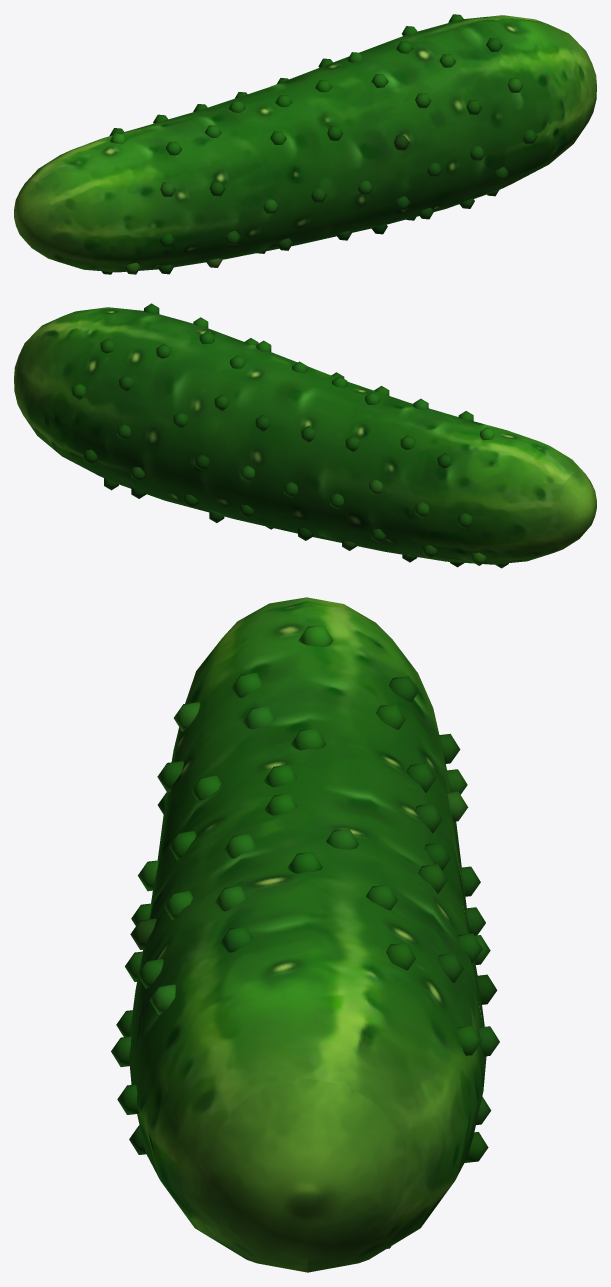
File: cucumber_pickle.fbx
3 renders of one model, top to bottom at view 1: azimuth 30°, elevation 25°; view 2: azimuth 150°, elevation 25°; view 3: azimuth 270°, elevation 25°, orthographic. The views are drawn at different scales.
Visible parts, largest first — view 1: Cucumber_Pickling_01; view 2: Cucumber_Pickling_01; view 3: Cucumber_Pickling_01.
Part boxes in pixels (x1,y1,x2,y2): Cucumber_Pickling_01: (14,14,596,274); Cucumber_Pickling_01: (14,303,596,568); Cucumber_Pickling_01: (111,597,499,1272).
Bounding box in the file's own units: 73.84 × 21.56 × 21.92.
